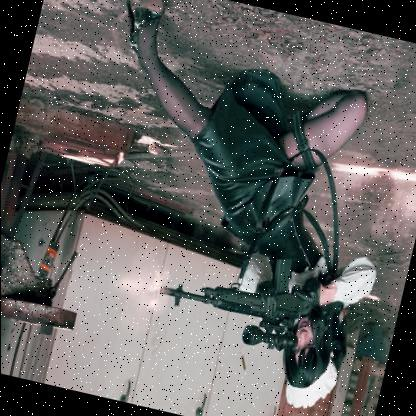rifle: (148, 235, 341, 354)
